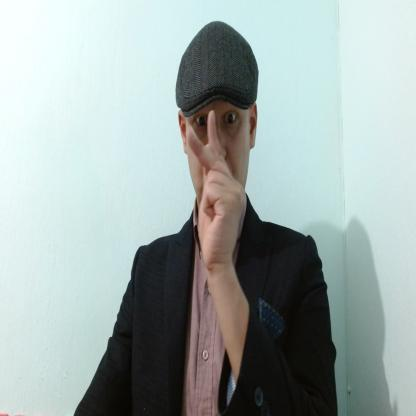P: (184, 107, 248, 273)
